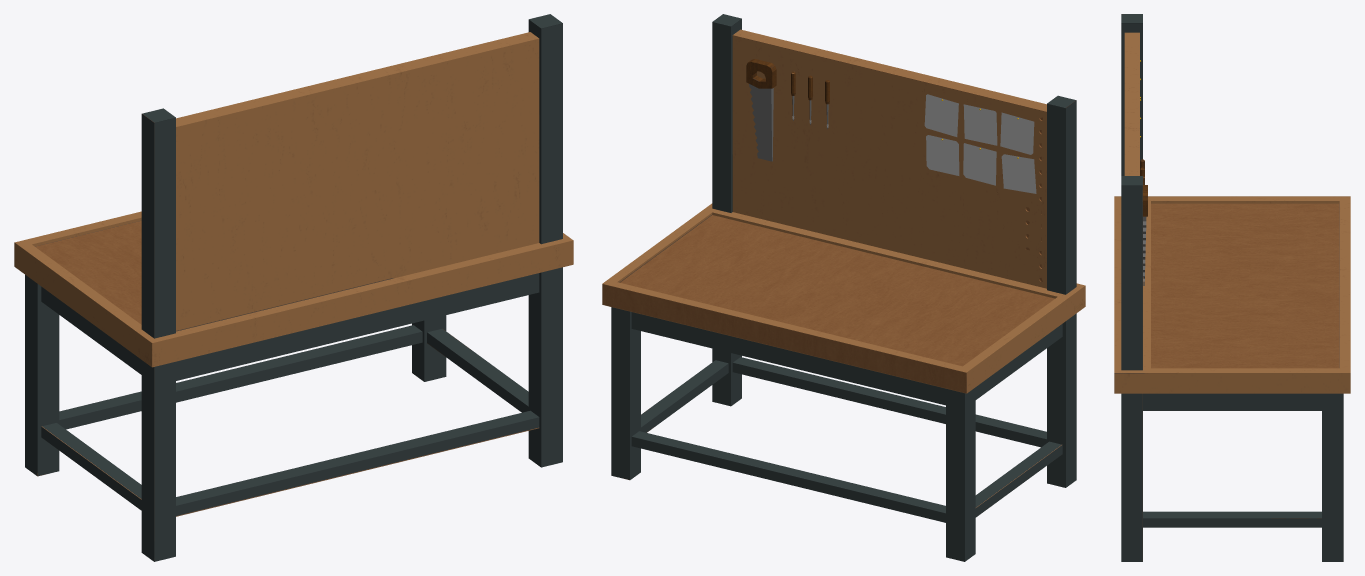
File: Workbench.fbx
3 renders of one model, left to right at view 1: azimuth 30°, elevation 25°; view 2: azimuth 150°, elevation 25°; view 3: azimuth 270°, elevation 25°, orthographic. The views are drawn at different scales.
Parts seen in each view (by area): view 1: Workbench; view 2: Workbench; view 3: Workbench.
Boxes of the visible parts, x1,y1,x2,y2 form: Workbench: (14,14,573,561); Workbench: (602,14,1085,561); Workbench: (1114,14,1350,561).
Bounding box in the file's own units: 2.13 × 2.12 × 1.2.
